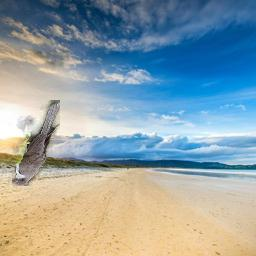Cuckoo: (12, 100, 60, 186)
